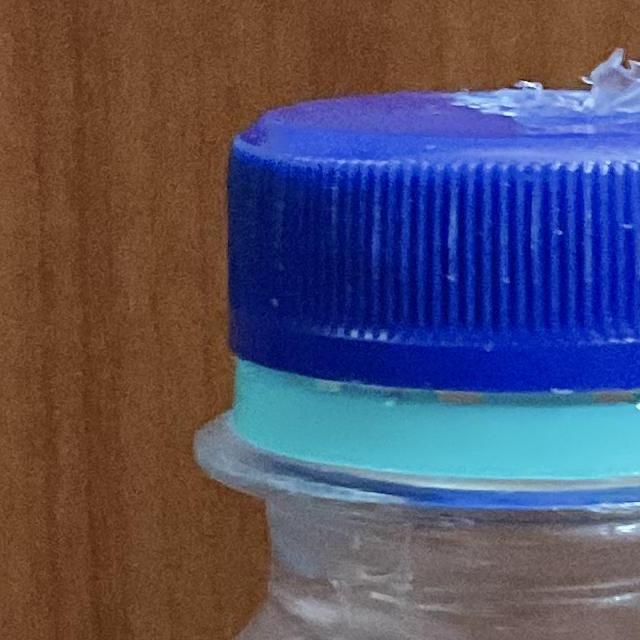Good-cap-Df0S: (195, 46, 640, 493)
